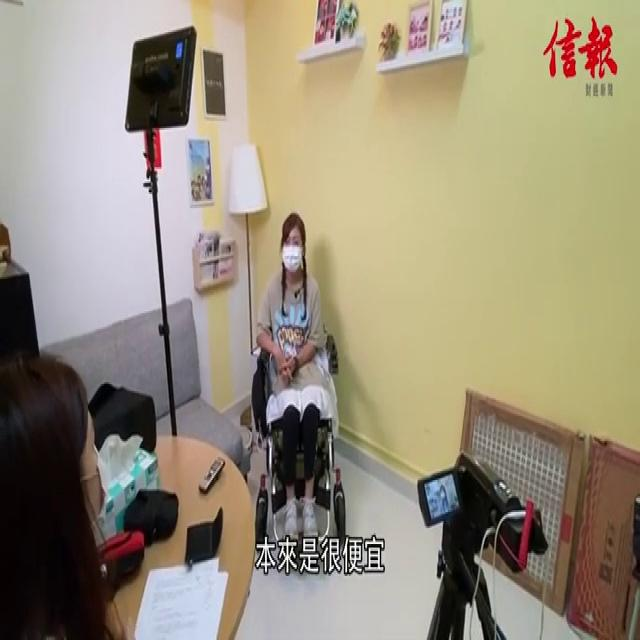wheelchairs: (250, 342, 352, 538)
